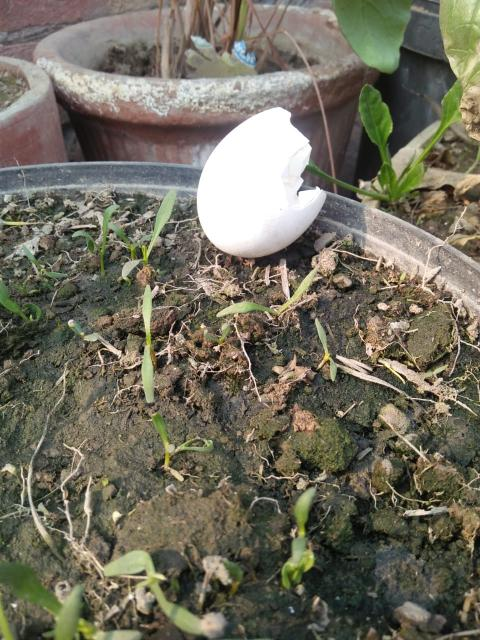Roto: (195, 105, 327, 258)
